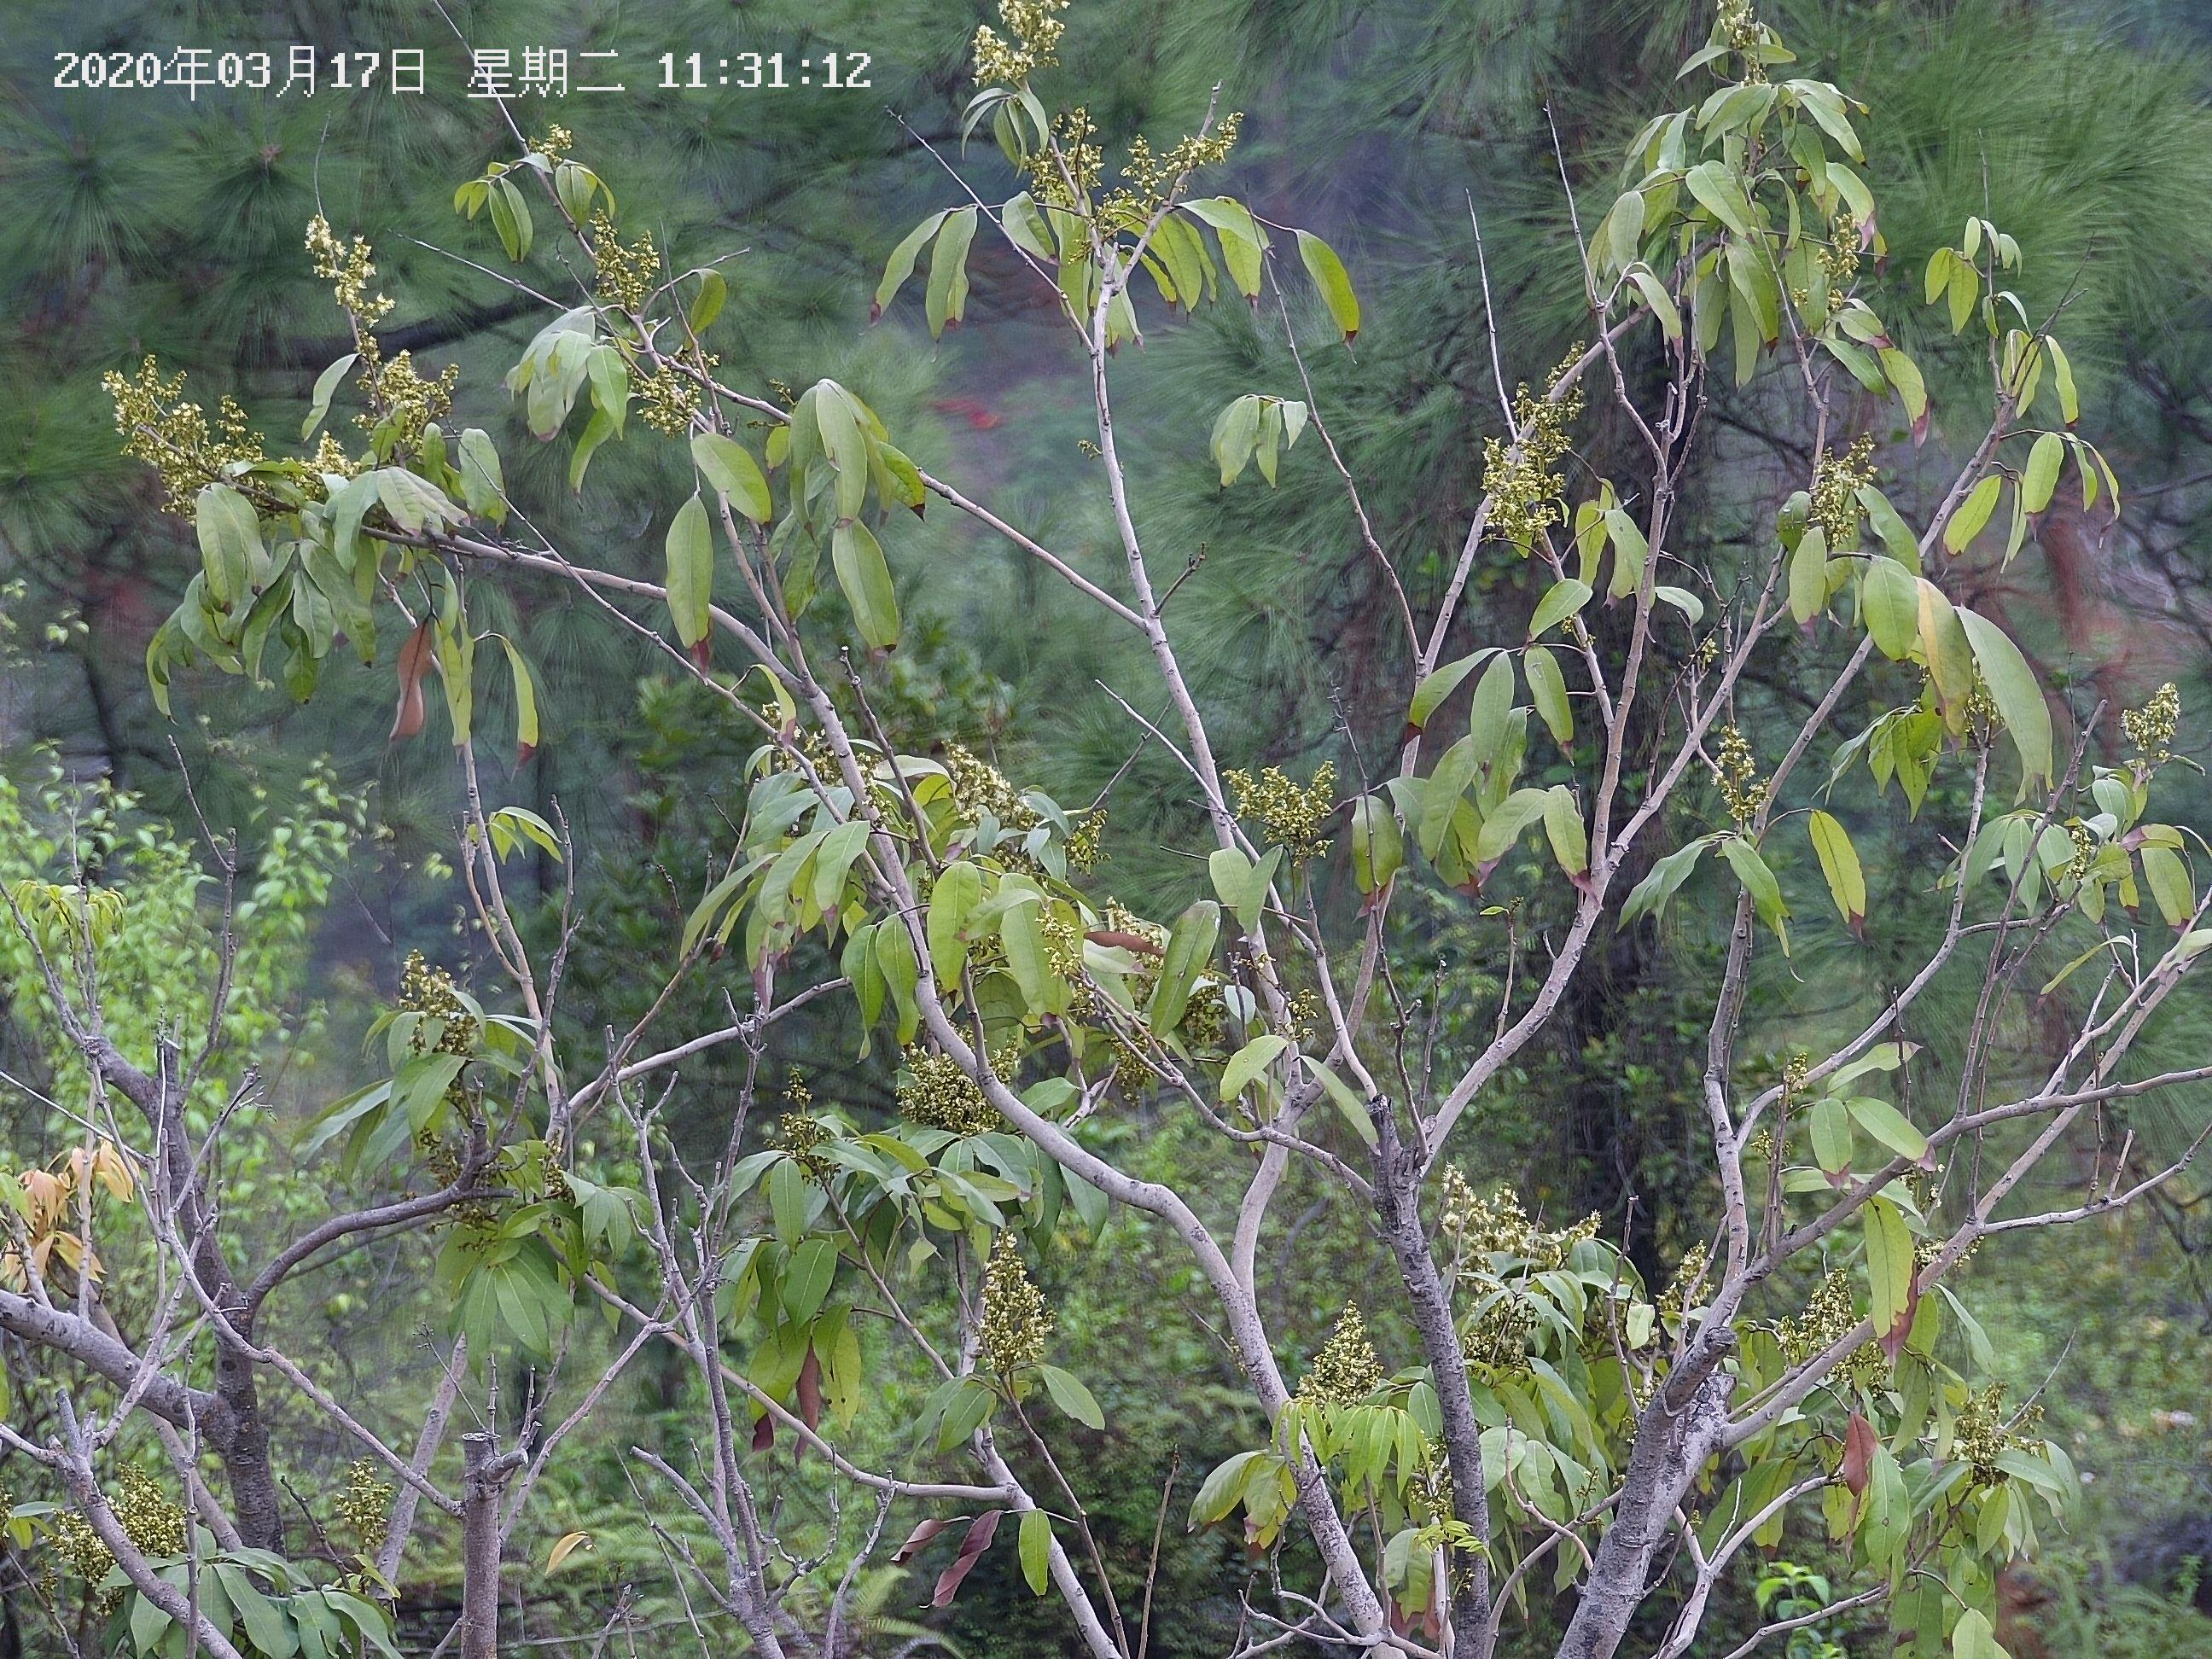开花始期: (1458, 336, 1594, 533), (92, 354, 275, 498), (1211, 753, 1350, 863), (888, 1033, 1029, 1138), (963, 1218, 1059, 1371), (1019, 108, 1106, 206), (1299, 1295, 1383, 1396), (582, 206, 662, 301), (1709, 721, 1771, 824), (780, 1068, 827, 1152)
开花盛期: (287, 216, 477, 436), (1439, 1154, 1604, 1368), (44, 1462, 188, 1577), (1122, 110, 1249, 185), (1813, 415, 1876, 544), (970, 0, 1064, 82), (942, 741, 1033, 819), (329, 1452, 401, 1540), (1952, 1377, 2022, 1457), (1794, 1276, 1860, 1342), (2120, 683, 2182, 748), (399, 948, 455, 1012), (1818, 213, 1869, 281)
